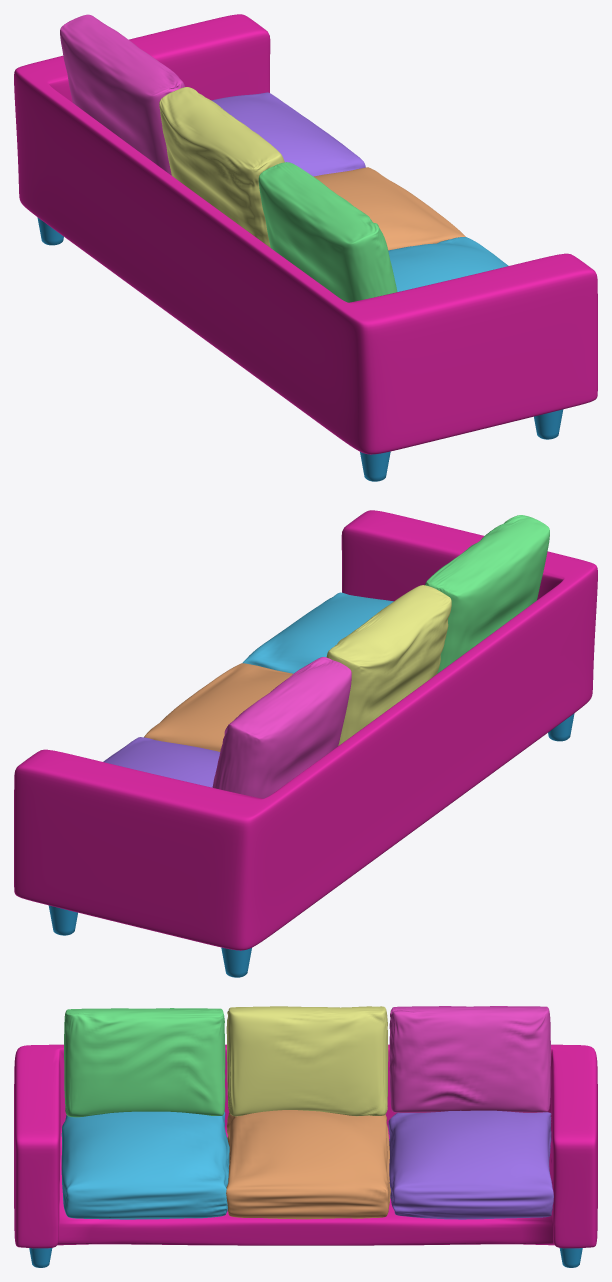
Rendered from CouchFBX 1.fbx.
3 views of the same model, one above another, from view 1: azimuth 30°, elevation 25°; view 2: azimuth 150°, elevation 25°; view 3: azimuth 270°, elevation 25° (orthographic). The views are drawn at different scales.
Parts seen in each view (by area): view 1: BaseCouchSingleObj; view 2: BaseCouchSingleObj; view 3: BaseCouchSingleObj.
Boxes of the visible parts, x1,y1,x2,y2 form: BaseCouchSingleObj: (14,14,597,481); BaseCouchSingleObj: (14,510,597,977); BaseCouchSingleObj: (14,1006,597,1267).
Bounding box in the file's own units: 214 × 84.3 × 77.86.
